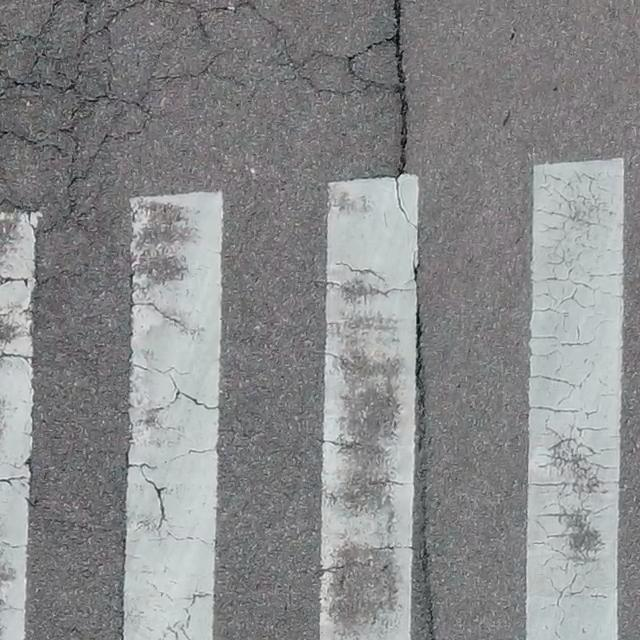GRIETA: (412, 258, 434, 639), (392, 0, 407, 174)
PIEL DE COCODRILO: (0, 1, 395, 639), (526, 159, 623, 639)
